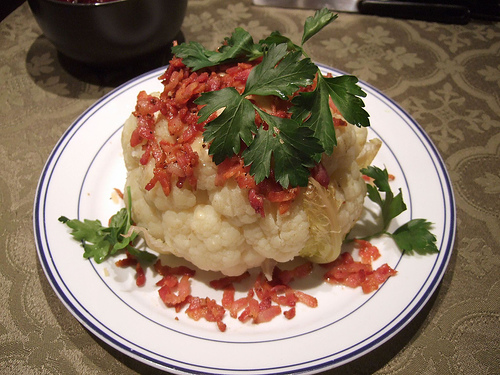cauliflower: (119, 89, 380, 278)
